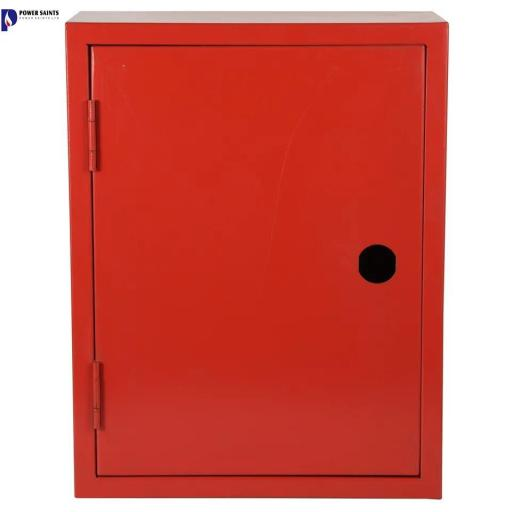fire_hose: (66, 7, 450, 512)
